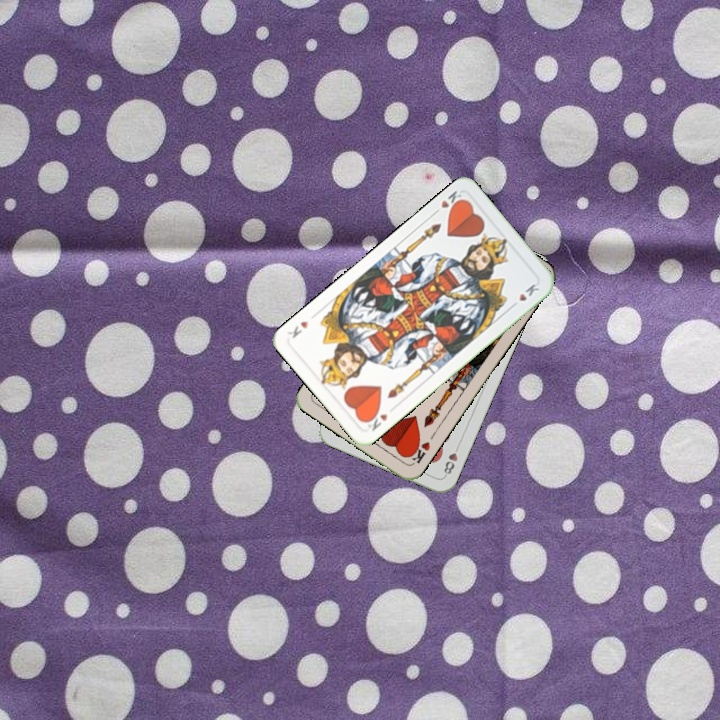H8: (440, 440, 462, 479)
HK: (429, 186, 467, 218), (404, 437, 433, 467), (360, 407, 390, 434)
